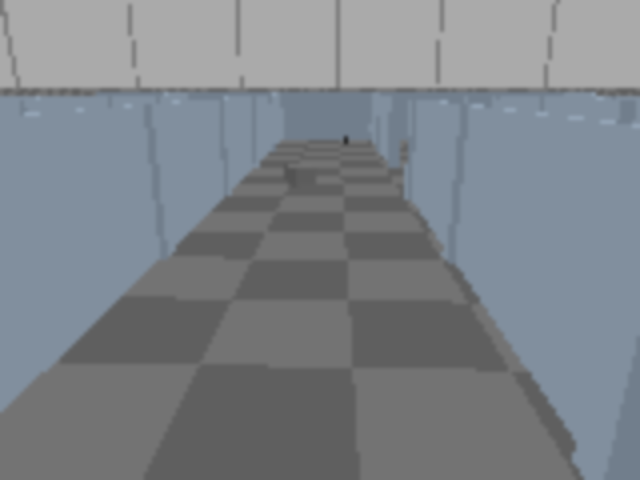obstacle: (284, 164, 316, 187)
